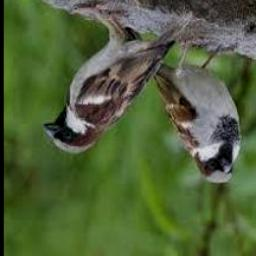Sparrow: (43, 8, 196, 155), (121, 28, 241, 184)
